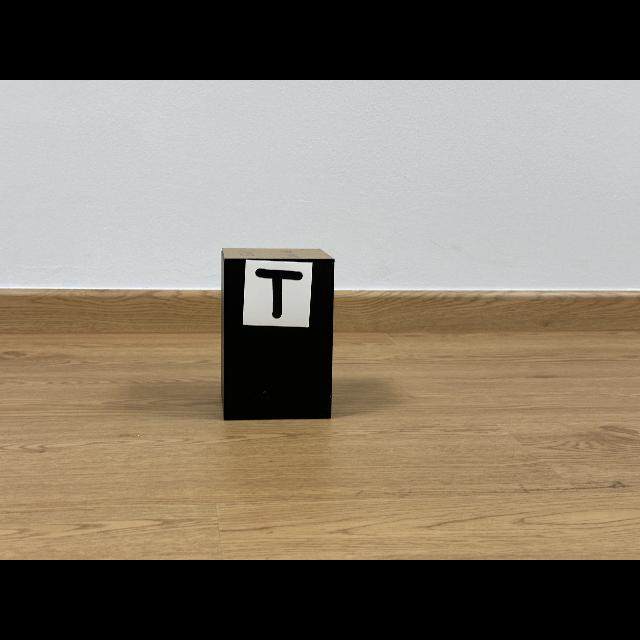T: (255, 269, 302, 319)
